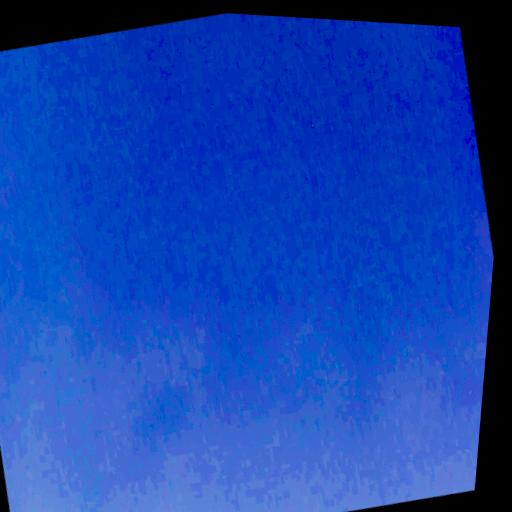drones: (309, 119, 316, 129)
